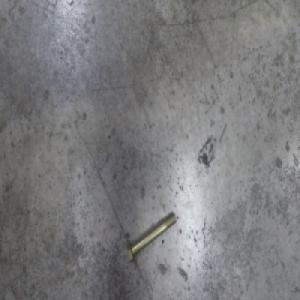Bolt: (126, 210, 176, 267)
